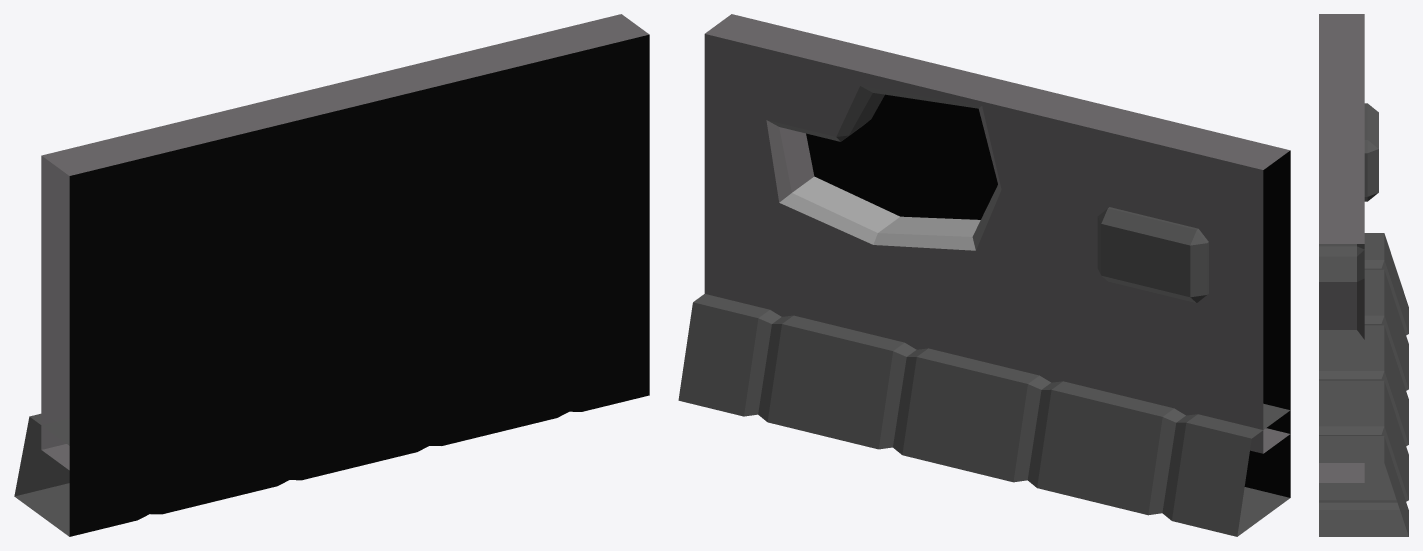
Rendered from Wall_9_Base.fbx.
3 views of the same model, side by side, from view 1: azimuth 30°, elevation 25°; view 2: azimuth 150°, elevation 25°; view 3: azimuth 270°, elevation 25° (orthographic). The views are drawn at different scales.
Parts seen in each view (by area): view 1: Wall_9_Base; view 2: Wall_9_Base; view 3: Wall_9_Base.
Part boxes in pixels (x1,y1,x2,y2): Wall_9_Base: (14,14,649,536); Wall_9_Base: (678,14,1290,536); Wall_9_Base: (1319,14,1408,536).
Bounding box in the file's own units: 200 × 119 × 33.
